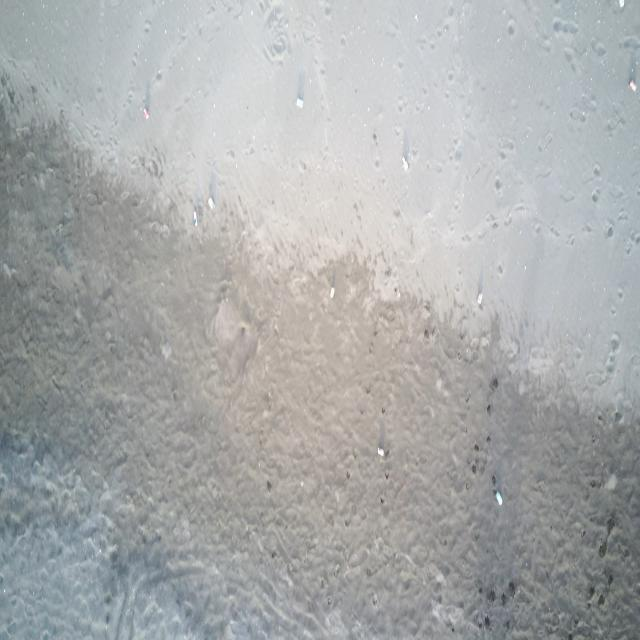Garbage: (495, 489, 502, 504), (296, 96, 303, 108), (207, 196, 213, 208), (192, 208, 196, 226), (377, 447, 384, 455), (329, 286, 333, 298)
